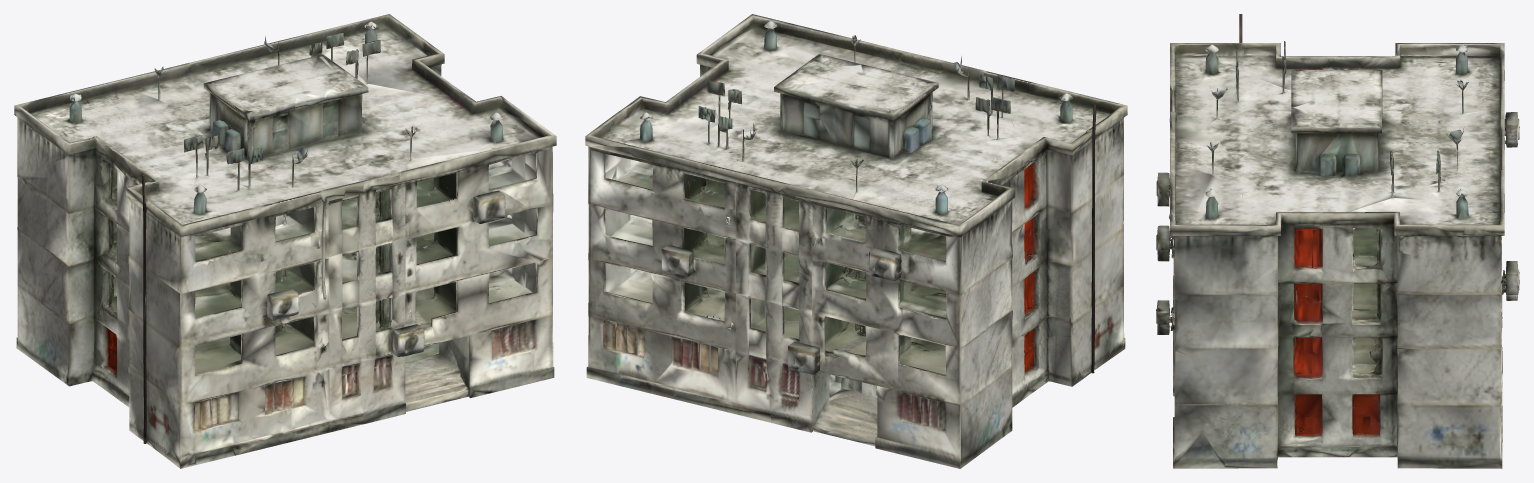
The model's file is block_white.glb.
3 views of the same model, side by side, from view 1: azimuth 30°, elevation 25°; view 2: azimuth 150°, elevation 25°; view 3: azimuth 270°, elevation 25° (orthographic).
Parts seen in each view (by area): view 1: block_white; view 2: block_white; view 3: block_white.
Part boxes in pixels (x1,y1,x2,y2): block_white: [14, 14, 556, 468]; block_white: [585, 14, 1127, 468]; block_white: [1156, 14, 1519, 468].
Size of the model in its own units: 1.89 by 1.33 by 1.56.
1 material, 1 textured.
